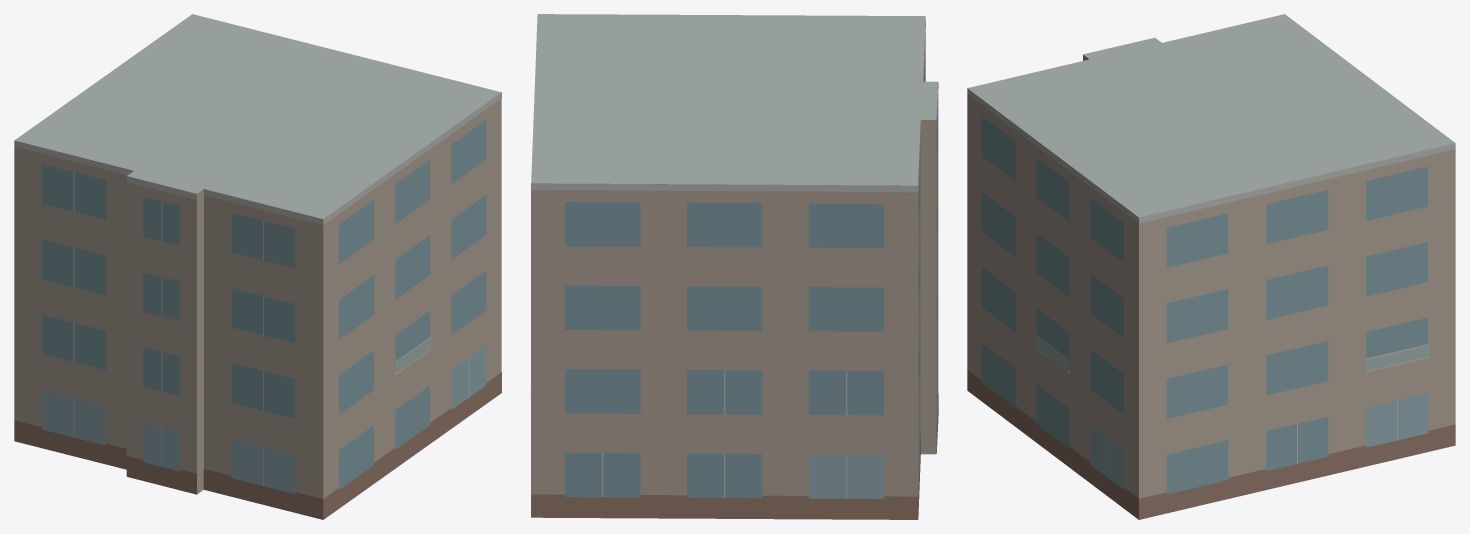
The model's file is survey-upis-32984802.glb.
3 views of the same model, side by side, from view 1: azimuth 30°, elevation 25°; view 2: azimuth 150°, elevation 25°; view 3: azimuth 270°, elevation 25° (orthographic). The views are drawn at different scales.
Visible parts, largest first — view 1: survey-upis-32984802.tmp; view 2: survey-upis-32984802.tmp; view 3: survey-upis-32984802.tmp.
Part boxes in pixels (<box>): survey-upis-32984802.tmp: <box>14,14,501,519</box>; survey-upis-32984802.tmp: <box>530,14,938,519</box>; survey-upis-32984802.tmp: <box>967,14,1455,519</box>.
Size of the model in its own units: 17.63 by 12.2 by 17.87.
